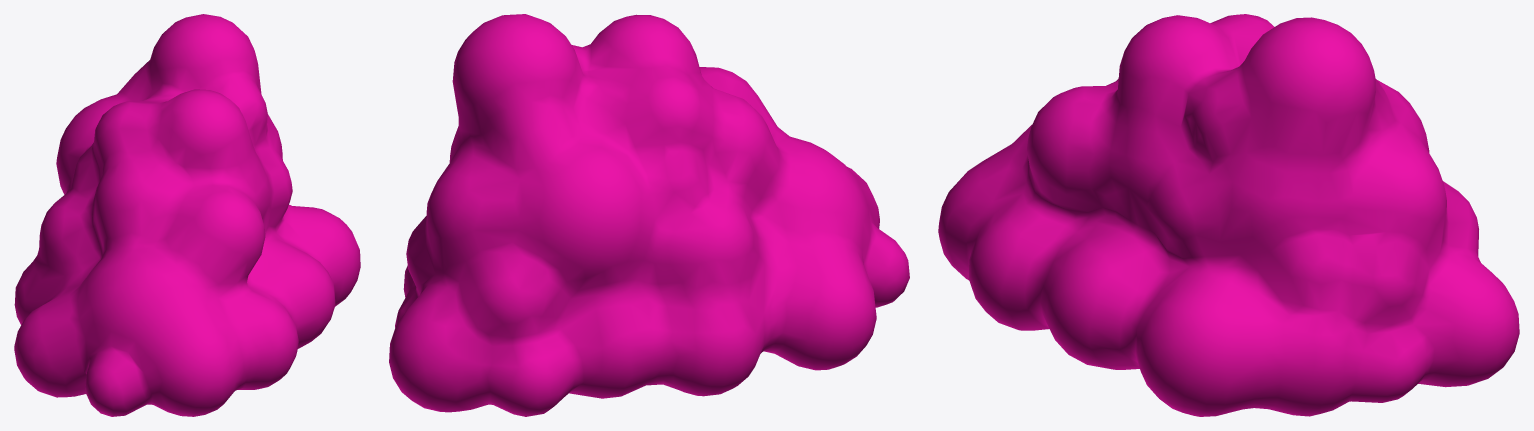
File: Cloud 3.fbx
3 renders of one model, left to right at view 1: azimuth 30°, elevation 25°; view 2: azimuth 150°, elevation 25°; view 3: azimuth 270°, elevation 25°, orthographic. The views are drawn at different scales.
Visible parts, largest first — view 1: Mball.002; view 2: Mball.002; view 3: Mball.002.
Part boxes in pixels (x1,y1,x2,y2): Mball.002: (14,14,360,416); Mball.002: (389,14,909,416); Mball.002: (938,14,1519,416).
Bounding box in the file's own units: 702 × 554 × 804.
